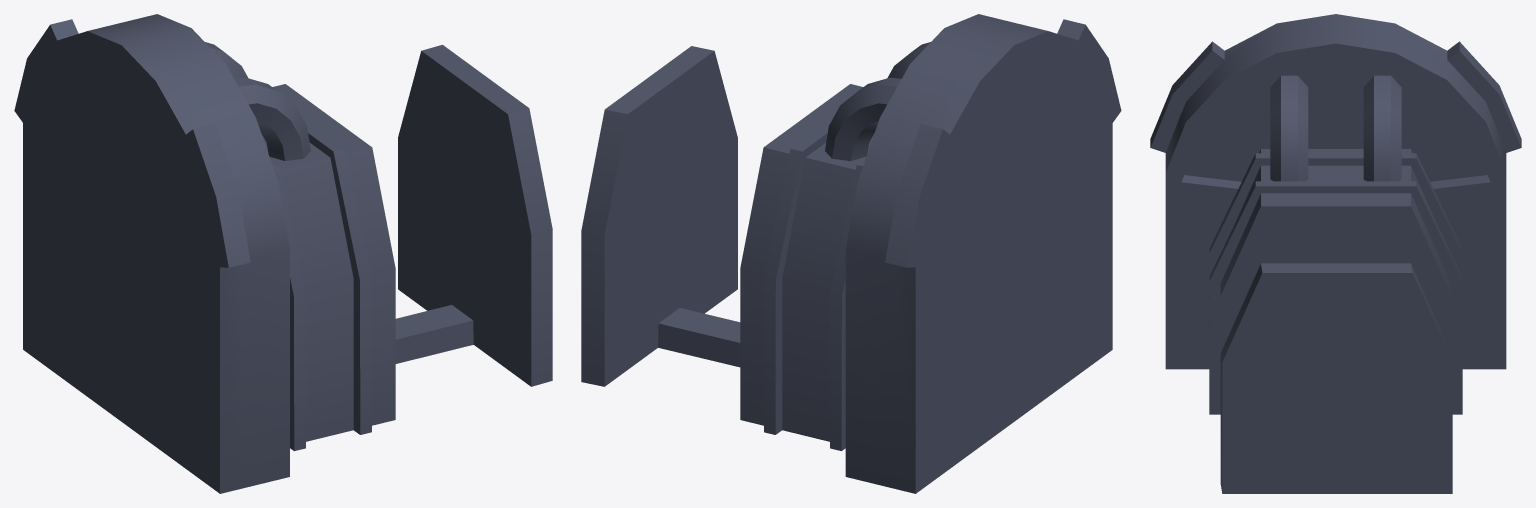
File: furnaceBlock.fbx
The picture shows the model from 3 angles, left to right: view 1: azimuth 30°, elevation 25°; view 2: azimuth 150°, elevation 25°; view 3: azimuth 270°, elevation 25°; orthographic projection. The views are drawn at different scales.
Visible parts, largest first — view 1: furnaceBlock_Temp; view 2: furnaceBlock_Temp; view 3: furnaceBlock_Temp.
Part boxes in pixels (left/top/right/bottom): furnaceBlock_Temp: left=14, top=14, right=552, bottom=493; furnaceBlock_Temp: left=581, top=14, right=1121, bottom=493; furnaceBlock_Temp: left=1150, top=14, right=1521, bottom=493.
Size of the model in its own units: 15.66 by 15.43 by 15.93.
